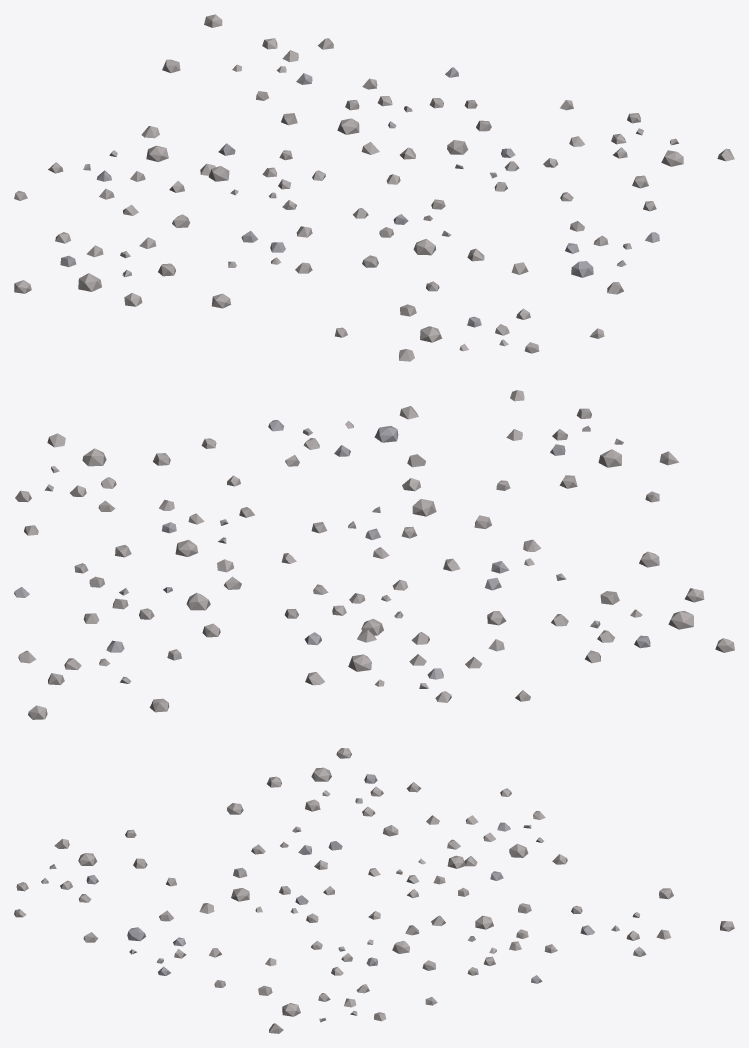
Rendered from Path_Gravel_Env_01.glb.
The picture shows the model from 3 angles, top to bottom: view 1: azimuth 30°, elevation 25°; view 2: azimuth 150°, elevation 25°; view 3: azimuth 270°, elevation 25°; orthographic projection. The views are drawn at different scales.
Visible parts, largest first — view 1: Path_Gravel_Env_01; view 2: Path_Gravel_Env_01; view 3: Path_Gravel_Env_01.
Boxes of the visible parts, x1,y1,x2,y2 form: Path_Gravel_Env_01: [14, 14, 734, 361]; Path_Gravel_Env_01: [14, 390, 734, 719]; Path_Gravel_Env_01: [14, 748, 734, 1033].
Bounding box in the file's own units: 10.75 × 0.1896 × 11.62.
Materials: 1 (1 with a texture image).
